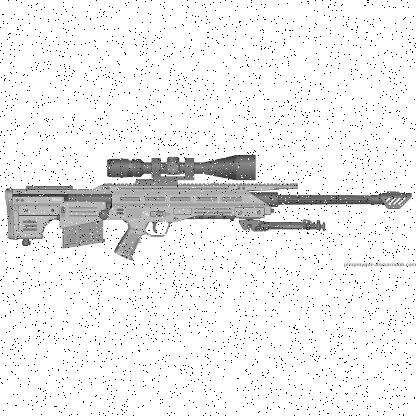gun: (6, 153, 410, 259)
